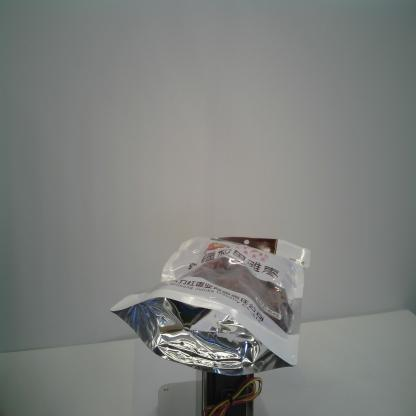Dried Food: (108, 233, 313, 381)
